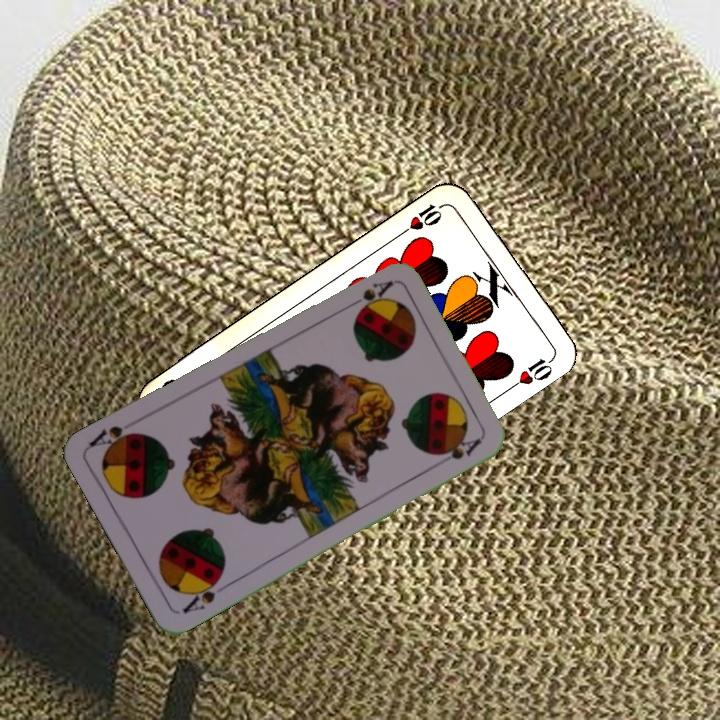H10: (397, 199, 449, 238)
SA: (178, 572, 225, 616), (340, 277, 395, 314)
